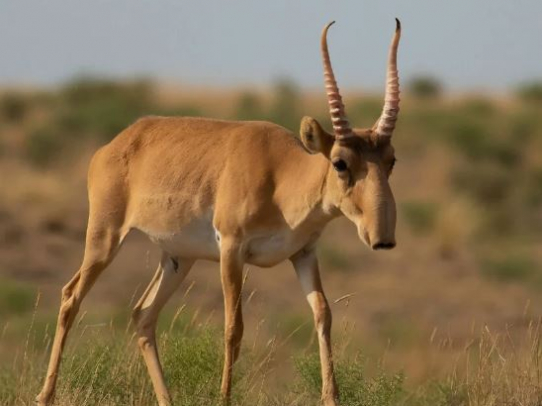saiga: (38, 15, 405, 398)
